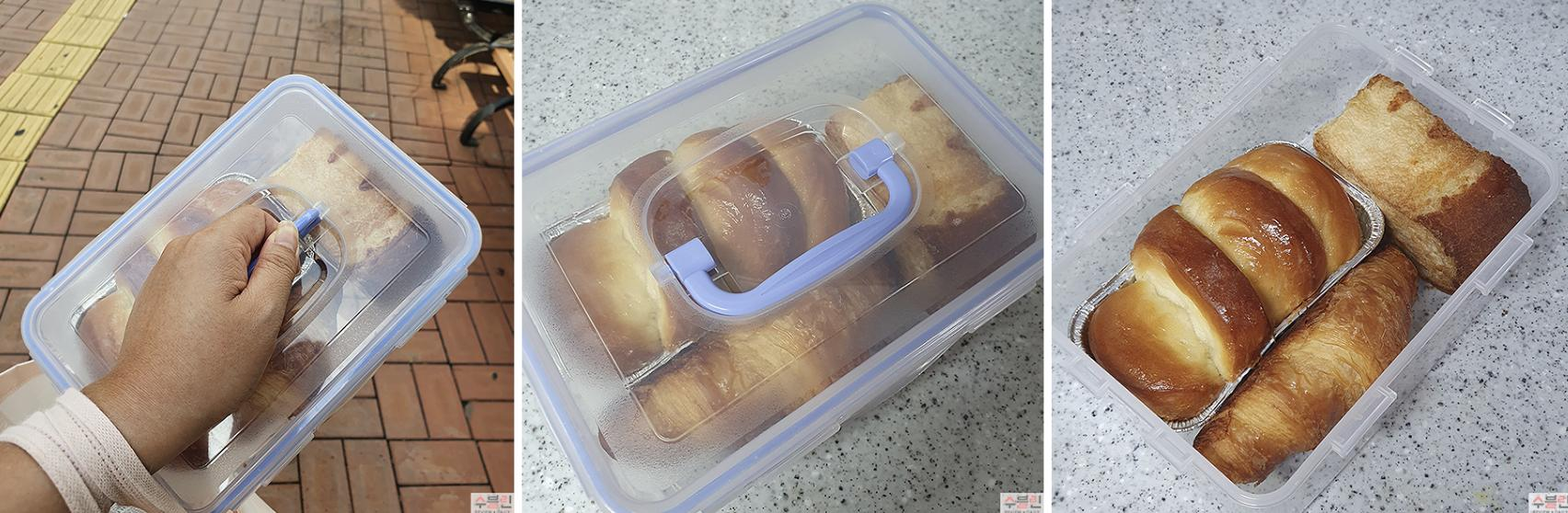Lunch Box: (1049, 24, 1562, 512)
